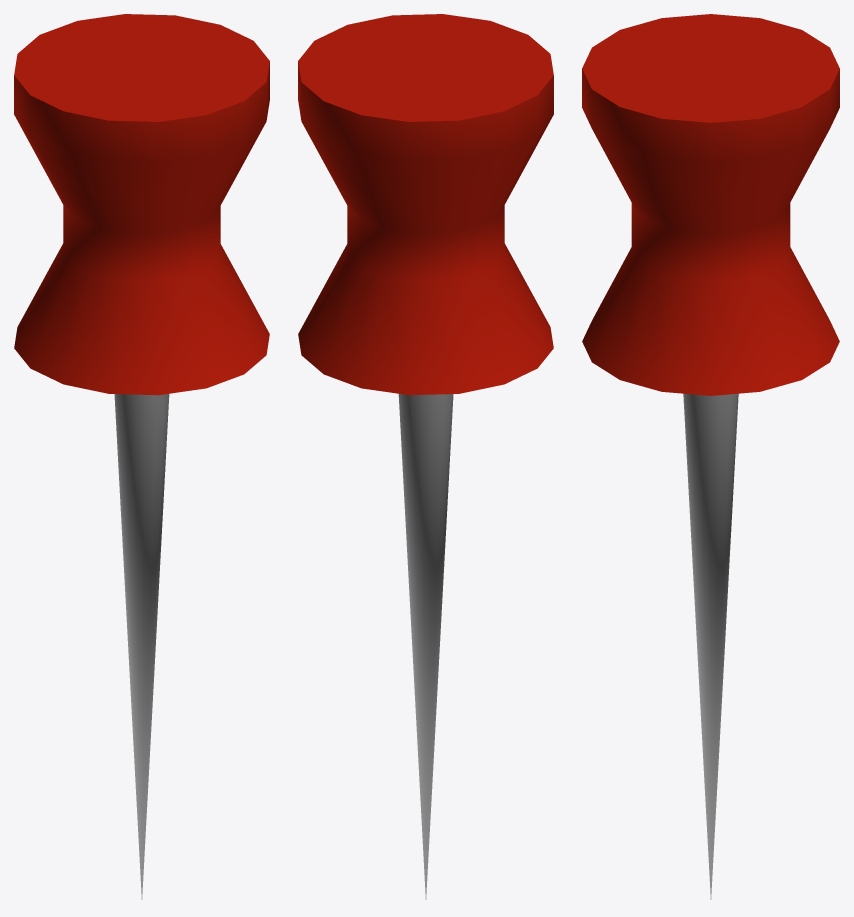
The model's file is Picker.glb.
The picture shows the model from 3 angles, left to right: view 1: azimuth 30°, elevation 25°; view 2: azimuth 150°, elevation 25°; view 3: azimuth 270°, elevation 25°; orthographic projection.
Parts seen in each view (by area): view 1: Cylinder; view 2: Cylinder; view 3: Cylinder.
Boxes of the visible parts, <box> form: Cylinder: <box>14,14,269,899</box>; Cylinder: <box>298,14,553,899</box>; Cylinder: <box>582,14,839,899</box>.
Size of the model in its own units: 2 by 7.14 by 2.
Materials: 1 (1 with a texture image).
